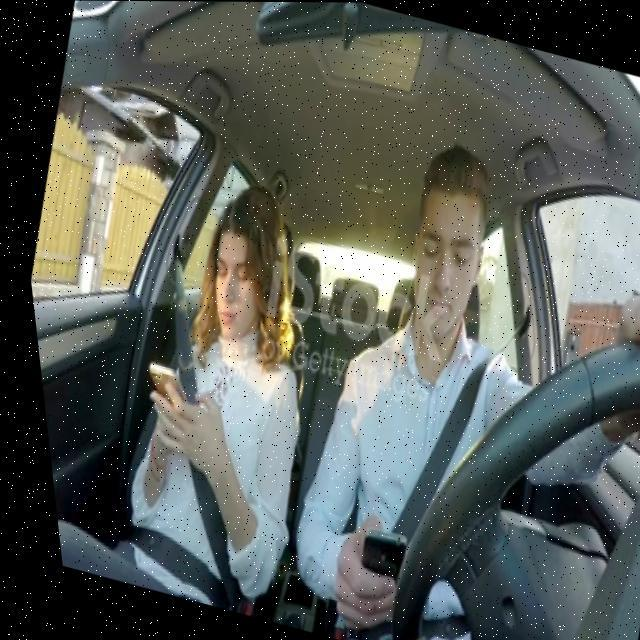PhoneCall: (330, 522, 404, 616), (126, 352, 195, 420)
